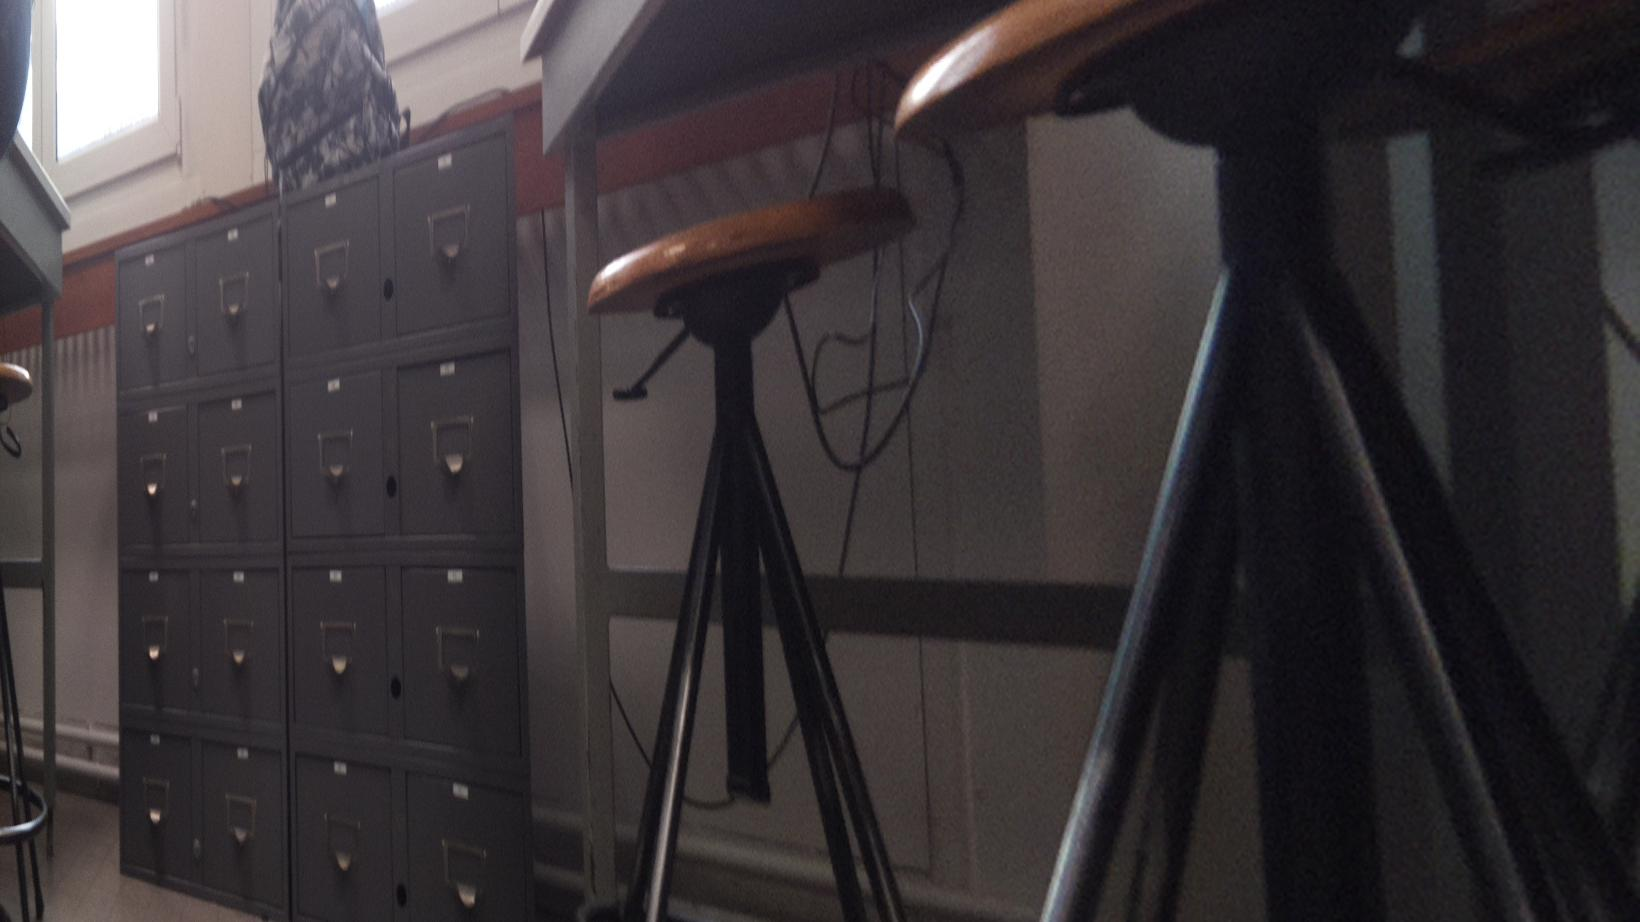big: (255, 2, 403, 165)
